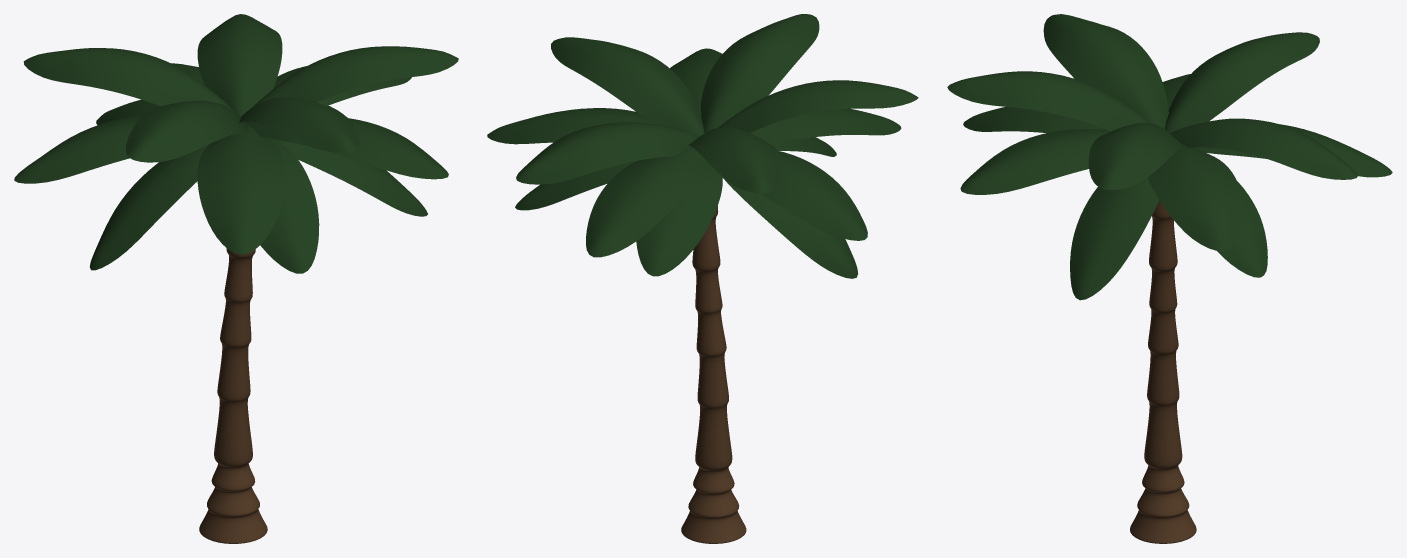
Rendered from Tree.glb.
3 views of the same model, side by side, from view 1: azimuth 30°, elevation 25°; view 2: azimuth 150°, elevation 25°; view 3: azimuth 270°, elevation 25° (orthographic). The views are drawn at different scales.
Visible parts, largest first — view 1: Tree, pPlane4, pPlane9, pPlane10, pPlane6, pPlane11, pPlane8, pPlane15, pPlane1, pPlane7, pPlane5, pPlane14 (+2 smaller); view 2: Tree, pPlane2, pPlane6, pPlane7, pPlane10, pPlane8, pPlane1, pPlane12, pPlane9, pPlane11, pPlane4, pPlane3 (+3 smaller); view 3: Tree, pPlane8, pPlane9, pPlane3, pPlane14, pPlane7, pPlane10, pPlane5, pPlane6, pPlane4, pPlane13, pPlane2.
Part boxes in pixels (x1,y1,x2,y2): Tree: (199,248,267,543); pPlane4: (197,124,285,254); pPlane9: (23,48,233,110); pPlane10: (197,14,282,116); pPlane6: (253,46,458,106); pPlane11: (90,144,209,270); pPlane8: (125,100,248,162); pPlane15: (260,138,319,273); pPlane1: (14,115,142,183); pPlane7: (239,97,359,152); pPlane5: (245,118,448,179); pPlane14: (277,140,427,216); Tree: (681,205,746,543); pPlane2: (586,147,709,257); pPlane6: (551,37,704,136); pPlane7: (700,14,819,132); pPlane10: (516,122,698,184); pPlane8: (718,80,918,132); pPlane1: (761,151,867,240); pPlane12: (636,165,722,276); pPlane9: (689,127,782,193); pPlane11: (722,177,858,278); pPlane4: (750,108,901,143); pPlane3: (487,108,653,144); Tree: (1130,200,1196,543); pPlane8: (1043,14,1168,128); pPlane9: (1164,32,1319,133); pPlane3: (1147,144,1243,251); pPlane14: (1070,178,1159,300); pPlane7: (947,71,1149,131); pPlane10: (1170,118,1357,179); pPlane5: (960,129,1110,194); pPlane6: (1088,123,1182,190); pPlane4: (963,107,1106,133); pPlane13: (1217,181,1267,277); pPlane2: (1194,124,1392,177).
Bounding box in the file's own units: 78.02 × 88.7 × 77.97.
Materials: 2 (2 with a texture image).
